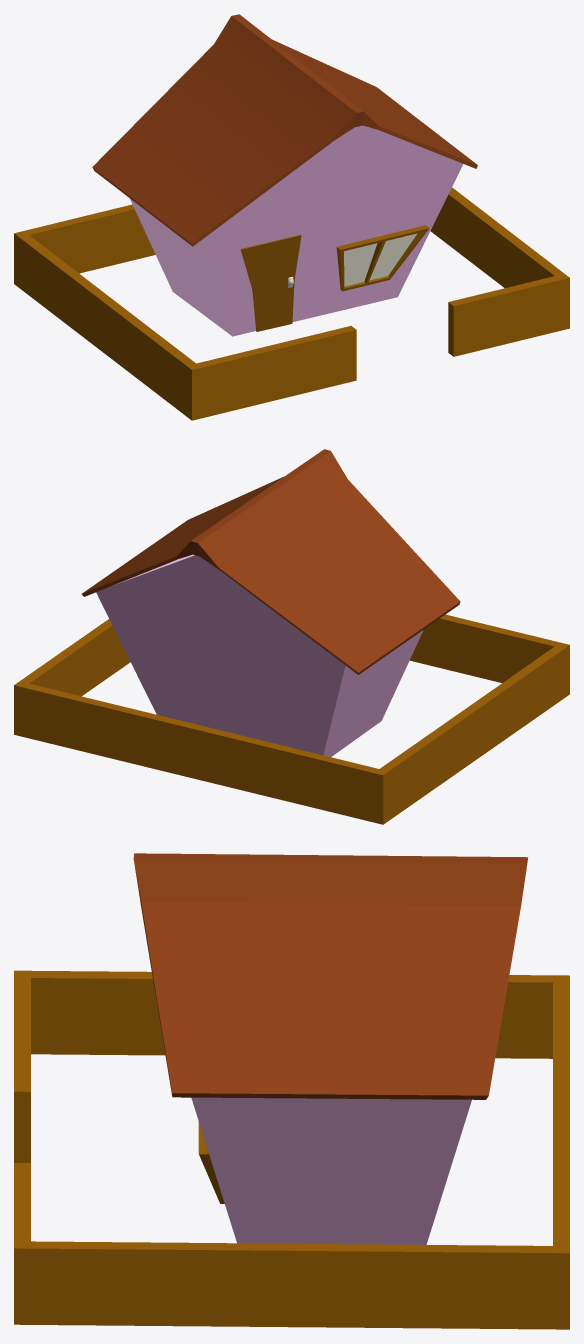
File: casa_cidade01.FBX
3 renders of one model, top to bottom at view 1: azimuth 30°, elevation 25°; view 2: azimuth 150°, elevation 25°; view 3: azimuth 270°, elevation 25°, orthographic. The views are drawn at different scales.
Parts seen in each view (by area): view 1: Cidade_Casa_01; view 2: Cidade_Casa_01; view 3: Cidade_Casa_01.
Part boxes in pixels (x1,y1,x2,y2): Cidade_Casa_01: (14,14,569,420); Cidade_Casa_01: (14,449,569,824); Cidade_Casa_01: (14,853,569,1329).
Bounding box in the file's own units: 9.14 × 7.6 × 5.21.
